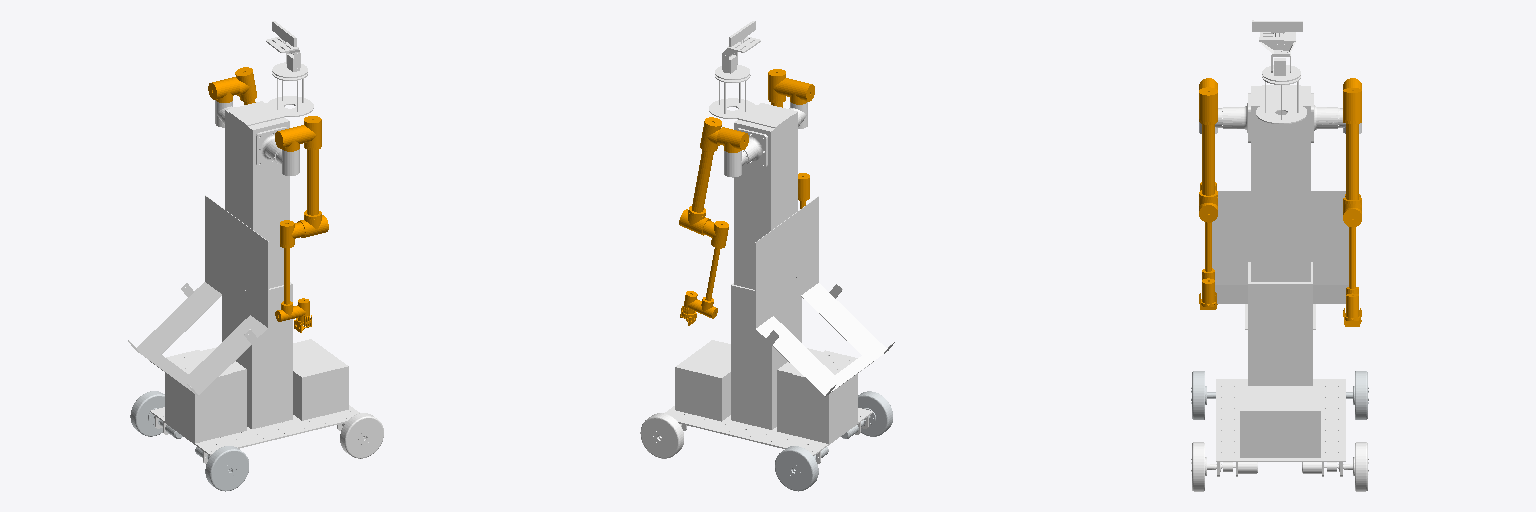
--- Render facts (derived) ---
The picture shows the robot from 3 angles, left to right: view 1: azimuth 30°, elevation 25°; view 2: azimuth 150°, elevation 25°; view 3: azimuth 270°, elevation 25°; orthographic projection.
Robot: hustac_pg_v2 — 27 links, 26 joints (16 revolute, 8 continuous, 1 prismatic, 1 fixed); root link base_footprint; default pose: all joints at 0.
Visible links, largest first — view 1: base_link, torso_link, rb_wheel, rf_wheel, right_link3, lb_wheel, gaze_link2, right_link5, right_link1, left_link1; view 2: base_link, torso_link, lb_wheel, lf_wheel, left_link3, rb_wheel, gaze_link2, left_link5, right_link1, left_link1; view 3: base_link, torso_link, left_link3, right_link3, gaze_link2, lf_wheel, rf_wheel, rb_wheel, lb_wheel, right_link2, left_link2, gaze_link1.
Boxes of the visible links, bbox=[...] form: base_link: bbox=[128, 195, 359, 463]; torso_link: bbox=[215, 72, 313, 288]; rb_wheel: bbox=[195, 446, 248, 491]; rf_wheel: bbox=[340, 413, 383, 458]; right_link3: bbox=[297, 145, 328, 237]; lb_wheel: bbox=[130, 391, 182, 438]; gaze_link2: bbox=[266, 21, 300, 70]; right_link5: bbox=[275, 243, 298, 321]; right_link1: bbox=[275, 126, 306, 151]; left_link1: bbox=[208, 77, 239, 102]; base_link: bbox=[664, 196, 894, 463]; torso_link: bbox=[709, 75, 807, 289]; lb_wheel: bbox=[775, 446, 828, 491]; lf_wheel: bbox=[640, 413, 683, 458]; left_link3: bbox=[679, 144, 717, 235]; rb_wheel: bbox=[841, 391, 892, 438]; gaze_link2: bbox=[722, 21, 760, 72]; left_link5: bbox=[695, 242, 725, 318]; right_link1: bbox=[783, 79, 814, 104]; left_link1: bbox=[717, 127, 748, 152]; base_link: bbox=[1212, 191, 1348, 476]; torso_link: bbox=[1199, 75, 1361, 281]; left_link3: bbox=[1343, 119, 1361, 227]; right_link3: bbox=[1199, 119, 1217, 222]; gaze_link2: bbox=[1252, 20, 1302, 72]; lf_wheel: bbox=[1302, 442, 1368, 491]; rf_wheel: bbox=[1191, 442, 1257, 491]; rb_wheel: bbox=[1191, 371, 1215, 419]; lb_wheel: bbox=[1346, 371, 1368, 419]; right_link2: bbox=[1199, 87, 1217, 121]; left_link2: bbox=[1343, 88, 1361, 120]; gaze_link1: bbox=[1262, 58, 1300, 81].
Bounding box of the posed robot: 0.714 × 0.547 × 1.51 m (x, y, z).
Meshes: 26 distinct files referenced, 26 mesh visuals loaded (26 binary STL).

robot.urdf — hustac_pg_v2:
<robot
  name="hustac_pg_v2">
  <link
    name="base_link">
    <inertial>
      <origin
        xyz="-0.1523 0 0.12489"
        rpy="0 0 0" />
      <mass
        value="89.4624907016849" />
      <inertia
        ixx="1.4339"
        ixy="0.00013298"
        ixz="0.051452"
        iyy="2.6125"
        iyz="0.00047348"
        izz="2.0135" />
    </inertial>
    <visual>
      <origin
        xyz="0 0 0"
        rpy="0 0 0" />
      <geometry>
        <mesh
          filename="package://hustac_pg_v2/meshes/base_link.STL" />
      </geometry>
      <material
        name="">
        <color
          rgba="1 1 1 1" />
      </material>
    </visual>
    <collision>
      <origin
        xyz="0 0 0"
        rpy="0 0 0" />
      <geometry>
        <mesh
          filename="package://hustac_pg_v2/meshes/base_link.STL" />
      </geometry>
    </collision>
  </link>
  <link
    name="torso_link">
    <inertial>
      <origin
        xyz="0.0007982 0 0.31611"
        rpy="0 0 0" />
      <mass
        value="17.045" />
      <inertia
        ixx="0.61932"
        ixy="-4.0034E-05"
        ixz="-0.0043639"
        iyy="0.57083"
        iyz="-0.00015823"
        izz="0.10862" />
    </inertial>
    <visual>
      <origin
        xyz="0 0 0"
        rpy="0 0 0" />
      <geometry>
        <mesh
          filename="package://hustac_pg_v2/meshes/torso_link.STL" />
      </geometry>
      <material
        name="">
        <color
          rgba="1 1 1 1" />
      </material>
    </visual>
    <collision>
      <origin
        xyz="0 0 0"
        rpy="0 0 0" />
      <geometry>
        <mesh
          filename="package://hustac_pg_v2/meshes/torso_link.STL" />
      </geometry>
    </collision>
  </link>
  <joint
    name="torso_joint"
    type="prismatic">
    <origin
      xyz="-1.5832E-05 -1.5832E-05 0.5"
      rpy="-7.8886E-31 -2.4286E-16 -2.6984E-16" />
    <parent
      link="base_link" />
    <child
      link="torso_link" />
    <axis
      xyz="0 0 1" />
    <limit
      lower="-0.43"
      upper="0"
      effort="0"
      velocity="0" />
  </joint>
  <link
    name="left_link1">
    <inertial>
      <origin
        xyz="0 0.0008606 -0.0037962"
        rpy="0 0 0" />
      <mass
        value="0.282400129639665" />
      <inertia
        ixx="0.00025351"
        ixy="-1.0353E-11"
        ixz="4.7094E-12"
        iyy="0.00015523"
        iyz="-9.2262E-07"
        izz="0.00023525" />
    </inertial>
    <visual>
      <origin
        xyz="0 0 0"
        rpy="0 0 0" />
      <geometry>
        <mesh
          filename="package://hustac_pg_v2/meshes/left_link1.STL" />
      </geometry>
      <material
        name="">
        <color
          rgba="1 0.647 0 1" />
      </material>
    </visual>
    <collision>
      <origin
        xyz="0 0 0"
        rpy="0 0 0" />
      <geometry>
        <mesh
          filename="package://hustac_pg_v2/meshes/left_link1.STL" />
      </geometry>
    </collision>
  </link>
  <joint
    name="left_joint1"
    type="revolute">
    <origin
      xyz="0 0.222 0.61"
      rpy="0 0 1.5708" />
    <parent
      link="torso_link" />
    <child
      link="left_link1" />
    <axis
      xyz="0 0 1" />
    <limit effort="300" velocity="1" lower="-6.28" upper="6.28" />
  </joint>
  <link
    name="left_link2">
    <inertial>
      <origin
        xyz="9.45305167476818E-10 0.000860606505898143 -0.00379622536975684"
        rpy="0 0 0" />
      <mass
        value="0.2824001142096" />
      <inertia
        ixx="0.000253509580708817"
        ixy="-1.08641723538627E-11"
        ixz="5.26586097434057E-12"
        iyy="0.000155226373044821"
        iyz="-9.22617058430691E-07"
        izz="0.000235253423304767" />
    </inertial>
    <visual>
      <origin
        xyz="0 0 0"
        rpy="0 0 0" />
      <geometry>
        <mesh
          filename="package://hustac_pg_v2/meshes/left_link2.STL" />
      </geometry>
      <material
        name="">
        <color
          rgba="1 0.647 0 1" />
      </material>
    </visual>
    <collision>
      <origin
        xyz="0 0 0"
        rpy="0 0 0" />
      <geometry>
        <mesh
          filename="package://hustac_pg_v2/meshes/left_link2.STL" />
      </geometry>
    </collision>
  </link>
  <joint
    name="left_joint2"
    type="revolute">
    <origin
      xyz="0 -0.08401108 0"
      rpy="1.3911 0 0" />
    <parent
      link="left_link1" />
    <child
      link="left_link2" />
    <axis
      xyz="0 0 1" />
    <limit effort="300" velocity="1" lower="-6.28" upper="6.28" />
  </joint>
  <link
    name="left_link3">
    <inertial>
      <origin
        xyz="2.09170325504715E-09 0.00037942163947207 -0.0993975720132856"
        rpy="0 0 0" />
      <mass
        value="0.640541692148901" />
      <inertia
        ixx="0.00726441985226313"
        ixy="-1.16273689456554E-11"
        ixz="-1.0956096526367E-10"
        iyy="0.00716601967778952"
        iyz="-2.41571265900033E-05"
        izz="0.000321135841128423" />
    </inertial>
    <visual>
      <origin
        xyz="0 0 0"
        rpy="0 0 0" />
      <geometry>
        <mesh
          filename="package://hustac_pg_v2/meshes/left_link3.STL" />
      </geometry>
      <material
        name="">
        <color
          rgba="1 0.647 0 1" />
      </material>
    </visual>
    <collision>
      <origin
        xyz="0 0 0"
        rpy="0 0 0" />
      <geometry>
        <mesh
          filename="package://hustac_pg_v2/meshes/left_link3.STL" />
      </geometry>
    </collision>
  </link>
  <joint
    name="left_joint3"
    type="revolute">
    <origin
      xyz="0 -0.35 0"
      rpy="1.5707963267949 0 0" />
    <parent
      link="left_link2" />
    <child
      link="left_link3" />
    <axis
      xyz="0 0 1" />
    <limit effort="300" velocity="1" lower="-6.28" upper="6.28" />
  </joint>
  <link
    name="left_link4">
    <inertial>
      <origin
        xyz="5.23182497325081E-10 0.000987080498156996 -0.0110209547990487"
        rpy="0 0 0" />
      <mass
        value="0.188640665914286" />
      <inertia
        ixx="0.000135106424724665"
        ixy="-1.24512886603136E-11"
        ixz="4.47078440440258E-12"
        iyy="0.000108943726861082"
        iyz="-2.05214060471245E-06"
        izz="8.93151006462272E-05" />
    </inertial>
    <visual>
      <origin
        xyz="0 0 0"
        rpy="0 0 0" />
      <geometry>
        <mesh
          filename="package://hustac_pg_v2/meshes/left_link4.STL" />
      </geometry>
      <material
        name="">
        <color
          rgba="1 0.647 0 1" />
      </material>
    </visual>
    <collision>
      <origin
        xyz="0 0 0"
        rpy="0 0 0" />
      <geometry>
        <mesh
          filename="package://hustac_pg_v2/meshes/left_link4.STL" />
      </geometry>
    </collision>
  </link>
  <joint
    name="left_joint4"
    type="revolute">
    <origin
      xyz="0 -0.0990000000000001 0"
      rpy="-1.5707963267949 -1.11022302462516E-16 3.14159265358979" />
    <parent
      link="left_link3" />
    <child
      link="left_link4" />
    <axis
      xyz="0 0 1" />
    <limit effort="300" velocity="1" lower="-6.28" upper="6.28" />
  </joint>
  <link
    name="left_link5">
    <inertial>
      <origin
        xyz="1.36848732346095E-09 0.000497540428185728 -0.078440352473969"
        rpy="0 0 0" />
      <mass
        value="0.188789060770594" />
      <inertia
        ixx="0.00171650030081302"
        ixy="-1.81891555999539E-12"
        ixz="-1.69828496417892E-11"
        iyy="0.00169655727215824"
        iyz="-7.36791722311758E-06"
        izz="5.19114920499587E-05" />
    </inertial>
    <visual>
      <origin
        xyz="0 0 0"
        rpy="0 0 0" />
      <geometry>
        <mesh
          filename="package://hustac_pg_v2/meshes/left_link5.STL" />
      </geometry>
      <material
        name="">
        <color
          rgba="1 0.647 0 1" />
      </material>
    </visual>
    <collision>
      <origin
        xyz="0 0 0"
        rpy="0 0 0" />
      <geometry>
        <mesh
          filename="package://hustac_pg_v2/meshes/left_link5.STL" />
      </geometry>
    </collision>
  </link>
  <joint
    name="left_joint5"
    type="revolute">
    <origin
      xyz="0 -0.3 0"
      rpy="1.5707963267949 -1.60902701370267E-16 0" />
    <parent
      link="left_link4" />
    <child
      link="left_link5" />
    <axis
      xyz="0 0 1" />
    <limit effort="300" velocity="1" lower="-6.28" upper="6.28" />
  </joint>
  <link
    name="left_link6">
    <inertial>
      <origin
        xyz="6.11908523850957E-10 0.000997680391540134 -0.00297185603629835"
        rpy="0 0 0" />
      <mass
        value="0.0941485774984353" />
      <inertia
        ixx="4.39688594097792E-05"
        ixy="-1.75091815300525E-12"
        ixz="1.02575145125081E-12"
        iyy="2.40728118714626E-05"
        iyz="-2.79147001136473E-07"
        izz="4.03142529145276E-05" />
    </inertial>
    <visual>
      <origin
        xyz="0 0 0"
        rpy="0 0 0" />
      <geometry>
        <mesh
          filename="package://hustac_pg_v2/meshes/left_link6.STL" />
      </geometry>
      <material
        name="">
        <color
          rgba="1 0.647 0 1" />
      </material>
    </visual>
    <collision>
      <origin
        xyz="0 0 0"
        rpy="0 0 0" />
      <geometry>
        <mesh
          filename="package://hustac_pg_v2/meshes/left_link6.STL" />
      </geometry>
    </collision>
  </link>
  <joint
    name="left_joint6"
    type="revolute">
    <origin
      xyz="0 -0.0640000000000001 0"
      rpy="-1.5707963267949 6.93889390390723E-18 -3.14159265358979" />
    <parent
      link="left_link5" />
    <child
      link="left_link6" />
    <axis
      xyz="0 0 1" />
    <limit effort="300" velocity="1" lower="-6.28" upper="6.28" />
  </joint>
  <link
    name="left_link7">
    <inertial>
      <origin
        xyz="3.10255765523237E-10 0.00488175590325657 0.0094593306659026"
        rpy="0 0 0" />
      <mass
        value="0.0238610409992475" />
      <inertia
        ixx="6.6214330650804E-06"
        ixy="3.51067575764802E-14"
        ixz="1.5049175610862E-14"
        iyy="5.93593202992512E-06"
        iyz="-1.62955877142949E-06"
        izz="8.29159974096986E-06" />
    </inertial>
    <visual>
      <origin
        xyz="0 0 0"
        rpy="0 0 0" />
      <geometry>
        <mesh
          filename="package://hustac_pg_v2/meshes/left_link7.STL" />
      </geometry>
      <material
        name="">
        <color
          rgba="1 0.647 0 1" />
      </material>
    </visual>
    <collision>
      <origin
        xyz="0 0 0"
        rpy="0 0 0" />
      <geometry>
        <mesh
          filename="package://hustac_pg_v2/meshes/left_link7.STL" />
      </geometry>
    </collision>
  </link>
  <joint
    name="left_joint7"
    type="revolute">
    <origin
      xyz="0 -0.034 0"
      rpy="-1.5707963267949 3.43339858673896E-17 3.14159265358979" />
    <parent
      link="left_link6" />
    <child
      link="left_link7" />
    <axis
      xyz="0 0 1" />
    <limit effort="300" velocity="1" lower="-6.28" upper="6.28" />
  </joint>
  <link
    name="left_ee_link">
    <inertial>
      <origin
        xyz="-0.0104511249147865 0.0200422330307001 0.00473202669947459"
        rpy="0 0 0" />
      <mass
        value="0.00506893153791106" />
      <inertia
        ixx="2.42978795459253E-06"
        ixy="3.6419508303903E-07"
        ixz="2.13478750983576E-07"
        iyy="1.02186457282365E-06"
        iyz="-6.73507198403219E-07"
        izz="2.46533886484517E-06" />
    </inertial>
    <visual>
      <origin
        xyz="0 0 0"
        rpy="0 0 0" />
      <geometry>
        <mesh
          filename="package://hustac_pg_v2/meshes/left_ee_link.STL" />
      </geometry>
      <material
        name="">
        <color
          rgba="1 0.647 0 1" />
      </material>
    </visual>
    <collision>
      <origin
        xyz="0 0 0"
        rpy="0 0 0" />
      <geometry>
        <mesh
          filename="package://hustac_pg_v2/meshes/left_ee_link.STL" />
      </geometry>
    </collision>
  </link>
  <joint
    name="left_ee_joint"
    type="continuous">
    <origin
      xyz="-0.0110000000000008 0.0105000000000003 0.0221811953944651"
      rpy="1.570796327 2.35619449 0" />
    <parent
      link="left_link7" />
    <child
      link="left_ee_link" />
    <axis
      xyz="0 0 -1" />
  </joint>
  <link
    name="left_ee_link2">
    <inertial>
      <origin
        xyz="0.0098988779365487 0.020320662696838 0.0047320266994747"
        rpy="0 0 0" />
      <mass
        value="0.005068931537911" />
      <inertia
        ixx="2.44865465013533E-06"
        ixy="-3.25144959237628E-07"
        ixz="-1.94972377252117E-07"
        iyy="1.00299787728082E-06"
        iyz="-6.79095645348363E-07"
        izz="2.46533886484514E-06" />
    </inertial>
    <visual>
      <origin
        xyz="0 0 0"
        rpy="0 0 0" />
      <geometry>
        <mesh
          filename="package://hustac_pg_v2/meshes/left_ee_link2.STL" />
      </geometry>
      <material
        name="">
        <color
          rgba="1 0.647 0 1" />
      </material>
    </visual>
    <collision>
      <origin
        xyz="0 0 0"
        rpy="0 0 0" />
      <geometry>
        <mesh
          filename="package://hustac_pg_v2/meshes/left_ee_link2.STL" />
      </geometry>
    </collision>
  </link>
  <joint
    name="left_ee_joint2"
    type="continuous">
    <origin
      xyz="0.0110000000000001 0.0105000000000002 0.0221811953944651"
      rpy="1.570796327 -2.35619449 0" />
    <parent
      link="left_link7" />
    <child
      link="left_ee_link2" />
    <axis
      xyz="0 0 -1" />
    <mimic joint="left_ee_joint" multiplier="-1.0"/>
  </joint>
  <link
    name="right_link1">
    <inertial>
      <origin
        xyz="-2.87357232453545E-09 0.000860606448409518 -0.00379622823748849"
        rpy="0 0 0" />
      <mass
        value="0.282400129088101" />
      <inertia
        ixx="0.000253509602809457"
        ixy="-1.28341065106255E-11"
        ixz="-6.97934423758907E-12"
        iyy="0.000155226372481429"
        iyz="-9.22617736839297E-07"
        izz="0.000235253415531243" />
    </inertial>
    <visual>
      <origin
        xyz="0 0 0"
        rpy="0 0 0" />
      <geometry>
        <mesh
          filename="package://hustac_pg_v2/meshes/right_link1.STL" />
      </geometry>
      <material
        name="">
        <color
          rgba="1 0.647 0 1" />
      </material>
    </visual>
    <collision>
      <origin
        xyz="0 0 0"
        rpy="0 0 0" />
      <geometry>
        <mesh
          filename="package://hustac_pg_v2/meshes/right_link1.STL" />
      </geometry>
    </collision>
  </link>
  <joint
    name="right_joint1"
    type="revolute">
    <origin
      xyz="0 -0.222 0.61"
      rpy="-1.44900829258215E-16 -7.14706072102445E-16 1.5707963267949" />
    <parent
      link="torso_link" />
    <child
      link="right_link1" />
    <axis
      xyz="0 0 1" />
    <limit effort="300" velocity="1" lower="-6.28" upper="6.28" />
  </joint>
  <link
    name="right_link2">
    <inertial>
      <origin
        xyz="9.45305167476818E-10 0.000860606505897976 -0.00379622536975677"
        rpy="0 0 0" />
      <mass
        value="0.2824001142096" />
      <inertia
        ixx="0.000253509580708817"
        ixy="-1.08641723936732E-11"
        ixz="5.26586103021678E-12"
        iyy="0.000155226373044821"
        iyz="-9.22617058430763E-07"
        izz="0.000235253423304767" />
    </inertial>
    <visual>
      <origin
        xyz="0 0 0"
        rpy="0 0 0" />
      <geometry>
        <mesh
          filename="package://hustac_pg_v2/meshes/right_link2.STL" />
      </geometry>
      <material
        name="">
        <color
          rgba="1 0.647 0 1" />
      </material>
    </visual>
    <collision>
      <origin
        xyz="0 0 0"
        rpy="0 0 0" />
      <geometry>
        <mesh
          filename="package://hustac_pg_v2/meshes/right_link2.STL" />
      </geometry>
    </collision>
  </link>
  <joint
    name="right_joint2"
    type="revolute">
    <origin
      xyz="0 -0.085 0"
      rpy="1.5707963267949 0 0" />
    <parent
      link="right_link1" />
    <child
      link="right_link2" />
    <axis
      xyz="0 0 1" />
    <limit effort="300" velocity="1" lower="-6.28" upper="6.28" />
  </joint>
  <link
    name="right_link3">
    <inertial>
      <origin
        xyz="-1.26689192470053E-09 0.000379421629088439 -0.0993975720898352"
        rpy="0 0 0" />
      <mass
        value="0.640541691597337" />
      <inertia
        ixx="0.00726441984857735"
        ixy="-1.24436265420934E-11"
        ixz="7.06008805139157E-11"
        iyy="0.00716601967331769"
        iyz="-2.4157125915642E-05"
        izz="0.00032113583990587" />
    </inertial>
    <visual>
      <origin
        xyz="0 0 0"
        rpy="0 0 0" />
      <geometry>
        <mesh
          filename="package://hustac_pg_v2/meshes/right_link3.STL" />
      </geometry>
      <material
        name="">
        <color
          rgba="1 0.647 0 1" />
      </material>
    </visual>
    <collision>
      <origin
        xyz="0 0 0"
        rpy="0 0 0" />
      <geometry>
        <mesh
          filename="package://hustac_pg_v2/meshes/right_link3.STL" />
      </geometry>
    </collision>
  </link>
  <joint
    name="right_joint3"
    type="revolute">
    <origin
      xyz="0 -0.35 0"
      rpy="1.5707963267949 4.69556343789277E-17 0" />
    <parent
      link="right_link2" />
    <child
      link="right_link3" />
    <axis
      xyz="0 0 1" />
    <limit effort="300" velocity="1" lower="-6.28" upper="6.28" />
  </joint>
  <link
    name="right_link4">
    <inertial>
      <origin
        xyz="5.23182608347383E-10 0.000987080498156993 -0.0110209547990489"
        rpy="0 0 0" />
      <mass
        value="0.188640665914286" />
      <inertia
        ixx="0.000135106424724665"
        ixy="-1.24512886755602E-11"
        ixz="4.47078447625519E-12"
        iyy="0.000108943726861082"
        iyz="-2.0521406047124E-06"
        izz="8.93151006462272E-05" />
    </inertial>
    <visual>
      <origin
        xyz="0 0 0"
        rpy="0 0 0" />
      <geometry>
        <mesh
          filename="package://hustac_pg_v2/meshes/right_link4.STL" />
      </geometry>
      <material
        name="">
        <color
          rgba="1 0.647 0 1" />
      </material>
    </visual>
    <collision>
      <origin
        xyz="0 0 0"
        rpy="0 0 0" />
      <geometry>
        <mesh
          filename="package://hustac_pg_v2/meshes/right_link4.STL" />
      </geometry>
    </collision>
  </link>
  <joint
    name="right_joint4"
    type="revolute">
    <origin
      xyz="0 -0.0990000000000004 0"
      rpy="-1.5707963267949 -6.93889390390723E-18 3.14159265358979" />
    <parent
      link="right_link3" />
    <child
      link="right_link4" />
    <axis
      xyz="0 0 1" />
    <limit effort="300" velocity="1" lower="-6.28" upper="6.28" />
  </joint>
  <link
    name="right_link5">
    <inertial>
      <origin
        xyz="-7.64793006702291E-10 0.000497540423684217 -0.0784403525436494"
        rpy="0 0 0" />
      <mass
        value="0.188789060585377" />
      <inertia
        ixx="0.0017165002999699"
        ixy="-2.01929499692028E-12"
        ixz="1.0584619295499E-11"
        iyy="0.00169655727120642"
        iyz="-7.36791715343006E-06"
        izz="5.19114918573948E-05" />
    </inertial>
    <visual>
      <origin
        xyz="0 0 0"
        rpy="0 0 0" />
      <geometry>
        <mesh
          filename="package://hustac_pg_v2/meshes/right_link5.STL" />
      </geometry>
      <material
        name="">
        <color
          rgba="1 0.647 0 1" />
      </material>
    </visual>
    <collision>
      <origin
        xyz="0 0 0"
        rpy="0 0 0" />
      <geometry>
        <mesh
          filename="package://hustac_pg_v2/meshes/right_link5.STL" />
      </geometry>
    </collision>
  </link>
  <joint
    name="right_joint5"
    type="revolute">
    <origin
      xyz="0 -0.3 0"
      rpy="1.5707963267949 1.38489731979257E-16 0" />
    <parent
      link="right_link4" />
    <child
      link="right_link5" />
    <axis
      xyz="0 0 1" />
    <limit effort="300" velocity="1" lower="-6.28" upper="6.28" />
  </joint>
  <link
    name="right_link6">
    <inertial>
      <origin
        xyz="6.11908412828654E-10 0.000997680391540245 -0.00297185603629846"
        rpy="0 0 0" />
      <mass
        value="0.094148577498435" />
      <inertia
        ixx="4.3968859409779E-05"
        ixy="-1.75091816867536E-12"
        ixz="1.02575140575681E-12"
        iyy="2.40728118714625E-05"
        iyz="-2.79147001136418E-07"
        izz="4.03142529145275E-05" />
    </inertial>
    <visual>
      <origin
        xyz="0 0 0"
        rpy="0 0 0" />
      <geometry>
        <mesh
          filename="package://hustac_pg_v2/meshes/right_link6.STL" />
      </geometry>
      <material
        name="">
        <color
          rgba="1 0.647 0 1" />
      </material>
    </visual>
    <collision>
      <origin
        xyz="0 0 0"
        rpy="0 0 0" />
      <geometry>
        <mesh
          filename="package://hustac_pg_v2/meshes/right_link6.STL" />
      </geometry>
    </collision>
  </link>
  <joint
    name="right_joint6"
    type="revolute">
    <origin
      xyz="0 -0.0639999999999999 0"
      rpy="-1.5707963267949 -1.11022302462516E-16 -3.14159265358979" />
    <parent
      link="right_link5" />
    <child
      link="right_link6" />
    <axis
      xyz="0 0 1" />
    <limit effort="300" velocity="1" lower="-6.28" upper="6.28" />
  </joint>
  <link
    name="right_link7">
    <inertial>
      <origin
        xyz="-3.1025271240992E-10 -0.00488175590325302 0.0094593306659026"
        rpy="0 0 0" />
      <mass
        value="0.0238610409992475" />
      <inertia
        ixx="6.62143306508118E-06"
        ixy="3.51064172185128E-14"
        ixz="-1.50487913469646E-14"
        iyy="5.9359320299251E-06"
        iyz="1.62955877142993E-06"
        izz="8.29159974097066E-06" />
    </inertial>
    <visual>
      <origin
        xyz="0 0 0"
        rpy="0 0 0" />
      <geometry>
        <mesh
          filename="package://hustac_pg_v2/meshes/right_link7.STL" />
      </geometry>
      <material
        name="">
        <color
          rgba="1 0.647 0 1" />
      </material>
    </visual>
    <collision>
      <origin
        xyz="0 0 0"
        rpy="0 0 0" />
      <geometry>
        <mesh
          filename="package://hustac_pg_v2/meshes/right_link7.STL" />
      </geometry>
    </collision>
  </link>
  <joint
    name="right_joint7"
    type="revolute">
    <origin
      xyz="0 -0.034 0"
      rpy="1.5707963267949 0 0" />
    <parent
      link="right_link6" />
    <child
      link="right_link7" />
    <axis
      xyz="0 0 1" />
    <limit effort="300" velocity="1" lower="-6.28" upper="6.28" />
  </joint>
  <link
    name="right_ee_link">
    <inertial>
      <origin
        xyz="-0.00786989624640644 0.0211891917028314 0.00473202694465302"
        rpy="0 0 0" />
      <mass
        value="0.00506893153791106" />
      <inertia
        ixx="2.49802240360424E-06"
        ixy="1.78642778393487E-07"
        ixz="1.27813439260075E-07"
        iyy="9.53630123811921E-07"
        iyz="-6.94873260506518E-07"
        izz="2.46533886484516E-06" />
    </inertial>
    <visual>
      <origin
        xyz="0 0 0"
        rpy="0 0 0" />
      <geometry>
        <mesh
          filename="package://hustac_pg_v2/meshes/right_ee_link.STL" />
      </geometry>
      <material
        name="">
        <color
          rgba="1 0.647 0 1" />
      </material>
    </visual>
    <collision>
      <origin
        xyz="0 0 0"
        rpy="0 0 0" />
      <geometry>
        <mesh
          filename="package://hustac_pg_v2/meshes/right_ee_link.STL" />
      </geometry>
    </collision>
  </link>
  <joint
    name="right_ee_joint"
    type="continuous">
    <origin
      xyz="0.0110000000000067 -0.0104999999999925 0.0221811953944649"
      rpy="1.5707963267949 2.35619449 -3.14159265358979" />
    <parent
      link="right_link7" />
    <child
      link="right_ee_link" />
    <axis
      xyz="0 0 -1" />
  </joint>
  <link
    name="right_ee_link2">
    <inertial>
      <origin
        xyz="0.00659519493320093 0.0216199102827142 0.00473202669948436"
        rpy="0 0 0" />
      <mass
        value="0.00506893153791103" />
      <inertia
        ixx="2.51377570664327E-06"
        ixy="-8.56492622315812E-08"
        ixz="-8.62419899790844E-08"
        iyy="9.3787682077291E-07"
        iyz="-7.01247062444405E-07"
        izz="2.46533886484516E-06" />
    </inertial>
    <visual>
      <origin
        xyz="0 0 0"
        rpy="0 0 0" />
      <geometry>
        <mesh
          filename="package://hustac_pg_v2/meshes/right_ee_link2.STL" />
      </geometry>
      <material
        name="">
        <color
          rgba="1 0.647 0 1" />
      </material>
    </visual>
    <collision>
      <origin
        xyz="0 0 0"
        rpy="0 0 0" />
      <geometry>
        <mesh
          filename="package://hustac_pg_v2/meshes/right_ee_link2.STL" />
      </geometry>
    </collision>
  </link>
  <joint
    name="right_ee_joint2"
    type="continuous">
    <origin
      xyz="-0.0110000000000009 -0.0104999999999998 0.0221811953944632"
      rpy="1.5707963267949 -2.35619449 -3.14159265358979" />
    <parent
      link="right_link7" />
    <child
      link="right_ee_link2" />
    <axis
      xyz="0 0 -1" />
    <mimic joint="right_ee_joint" multiplier="-1.0"/>
  </joint>
  <link
    name="gaze_link1">
    <inertial>
      <origin
        xyz="0.00332314338033088 -0.00166685318807747 0.0152159364388744"
        rpy="0 0 0" />
      <mass
        value="0.150566307832226" />
      <inertia
        ixx="0.000115144351223355"
        ixy="1.67570359368863E-06"
        ixz="-1.03958431832344E-05"
        iyy="0.000113564190859189"
        iyz="5.20649724762848E-06"
        izz="0.000139133815813377" />
    </inertial>
    <visual>
      <origin
        xyz="0 0 0"
        rpy="0 0 0" />
      <geometry>
        <mesh
          filename="package://hustac_pg_v2/meshes/gaze_link1.STL" />
      </geometry>
      <material
        name="">
        <color
          rgba="1 1 1 1" />
      </material>
    </visual>
    <collision>
      <origin
        xyz="0 0 0"
        rpy="0 0 0" />
      <geometry>
        <mesh
          filename="package://hustac_pg_v2/meshes/gaze_link1.STL" />
      </geometry>
    </collision>
  </link>
  <joint
    name="gaze_joint1"
    type="revolute">
    <origin
      xyz="0.128043357043904 0.00300000000000078 0.728"
      rpy="2.36658271566304E-30 2.4980018054066E-16 2.93111764559954E-15" />
    <parent
      link="torso_link" />
    <child
      link="gaze_link1" />
    <axis
      xyz="0 0 -1" />
    <limit effort="300" velocity="1" lower="-6.28" upper="6.28" />
  </joint>
  <link
    name="gaze_link2">
    <inertial>
      <origin
        xyz="-0.0933002369417908 -0.0315613902482236 -0.0210661375537418"
        rpy="0 0 0" />
      <mass
        value="0.137563261149672" />
      <inertia
        ixx="0.000246822046761975"
        ixy="-6.36584038385022E-05"
        ixz="1.92838091398628E-05"
        iyy="0.000348311526737285"
        iyz="1.12981590257425E-05"
        izz="0.000223382527067793" />
    </inertial>
    <visual>
      <origin
        xyz="0 0 0"
        rpy="0 0 0" />
      <geometry>
        <mesh
          filename="package://hustac_pg_v2/meshes/gaze_link2.STL" />
      </geometry>
      <material
        name="">
        <color
          rgba="1 1 1 1" />
      </material>
    </visual>
    <collision>
      <origin
        xyz="0 0 0"
        rpy="0 0 0" />
      <geometry>
        <mesh
          filename="package://hustac_pg_v2/meshes/gaze_link2.STL" />
      </geometry>
    </collision>
  </link>
  <joint
    name="gaze_joint2"
    type="revolute">
    <origin
      xyz="0.01 -0.031 0.0259999999999996"
      rpy="-1.69414531841237 1.57079631189374 2.99390185732041" />
    <parent
      link="gaze_link1" />
    <child
      link="gaze_link2" />
    <axis
      xyz="0 0 1" />
    <limit effort="300" velocity="1" lower="-6.28" upper="6.28" />
  </joint>
  <link
    name="lf_wheel">
    <inertial>
      <origin
        xyz="1.02755349089684E-05 -6.13129857995887E-09 -0.0238601812392738"
        rpy="0 0 0" />
      <mass
        value="1.21338763949041" />
      <inertia
        ixx="0.00568352810160651"
        ixy="2.98155597433514E-19"
        ixz="5.73484420208184E-07"
        iyy="0.00568357790753054"
        iyz="2.11994461266658E-15"
        izz="0.00215961172887464" />
    </inertial>
    <visual>
      <origin
        xyz="0 0 0"
        rpy="0 0 0" />
      <geometry>
        <mesh
          filename="package://hustac_pg_v2/meshes/lf_wheel.STL" />
      </geometry>
      <material
        name="">
        <color
          rgba="1 1 1 1" />
      </material>
    </visual>
    <collision>
      <origin
        xyz="0 0 0"
        rpy="0 0 0" />
      <geometry>
        <mesh
          filename="package://hustac_pg_v2/meshes/lf_wheel.STL" />
      </geometry>
    </collision>
  </link>
  <joint
    name="lf_wheel_joint"
    type="continuous">
    <origin
      xyz="0.25798 0.22848 -0.04"
      rpy="-1.5708 -1.0408E-16 0" />
    <parent
      link="base_link" />
    <child
      link="lf_wheel" />
    <axis
      xyz="0 0 -1" />
  </joint>
  <link
    name="lb_wheel">
    <inertial>
      <origin
        xyz="-1.02882751050748E-05 -1.43245970640749E-09 -0.0238601748305925"
        rpy="0 0 0" />
      <mass
        value="1.21338763949041" />
      <inertia
        ixx="0.00568352829157572"
        ixy="1.67716589314498E-14"
        ixz="-5.73482492765679E-07"
        iyy="0.00568357809750189"
        iyz="7.42549312152505E-11"
        izz="0.00215961172887679" />
    </inertial>
    <visual>
      <origin
        xyz="0 0 0"
        rpy="0 0 0" />
      <geometry>
        <mesh
          filename="package://hustac_pg_v2/meshes/lb_wheel.STL" />
      </geometry>
      <material
        name="">
        <color
          rgba="0.898039215686275 0.917647058823529 0.929411764705882 1" />
      </material>
    </visual>
    <collision>
      <origin
        xyz="0 0 0"
        rpy="0 0 0" />
      <geometry>
        <mesh
          filename="package://hustac_pg_v2/meshes/lb_wheel.STL" />
      </geometry>
    </collision>
  </link>
  <joint
    name="lb_wheel_joint"
    type="continuous">
    <origin
      xyz="-0.26202 0.22848 -0.04"
      rpy="-1.5708 -1.0408E-16 0" />
    <parent
      link="base_link" />
    <child
      link="lb_wheel" />
    <axis
      xyz="0 0 -1" />
  </joint>
  <link
    name="rb_wheel">
    <inertial>
      <origin
        xyz="1.02879751315843E-05 9.84803349979302E-11 -0.0238601767444937"
        rpy="0 0 0" />
      <mass
        value="1.21338763949041" />
      <inertia
        ixx="0.00568352810631195"
        ixy="1.23170787805216E-15"
        ixz="5.73479156772246E-07"
        iyy="0.0056835779122419"
        iyz="2.20368682510795E-12"
        izz="0.00215961172888057" />
    </inertial>
    <visual>
      <origin
        xyz="0 0 0"
        rpy="0 0 0" />
      <geometry>
        <mesh
          filename="package://hustac_pg_v2/meshes/rb_wheel.STL" />
      </geometry>
      <material
        name="">
        <color
          rgba="0.898039215686275 0.917647058823529 0.929411764705882 1" />
      </material>
    </visual>
    <collision>
      <origin
        xyz="0 0 0"
        rpy="0 0 0" />
      <geometry>
        <mesh
          filename="package://hustac_pg_v2/meshes/rb_wheel.STL" />
      </geometry>
    </collision>
  </link>
  <joint
    name="rb_wheel_joint"
    type="continuous">
    <origin
      xyz="-0.26202 -0.23252 -0.04"
      rpy="-1.5708 1.8735E-16 3.1416" />
    <parent
      link="base_link" />
    <child
      link="rb_wheel" />
    <axis
      xyz="0 0 1" />
  </joint>
  <link
    name="rf_wheel">
    <inertial>
      <origin
        xyz="-1.02971411043012E-05 -3.71761554873729E-09 -0.0238601903655846"
        rpy="0 0 0" />
      <mass
        value="1.21338763949041" />
      <inertia
        ixx="0.00568352810001746"
        ixy="-2.20797772426673E-16"
        ixz="-5.73484283476812E-07"
        iyy="0.0056835779059417"
        iyz="5.21777890584448E-13"
        izz="0.00215961172887485" />
    </inertial>
    <visual>
      <origin
        xyz="0 0 0"
        rpy="0 0 0" />
      <geometry>
        <mesh
          filename="package://hustac_pg_v2/meshes/rf_wheel.STL" />
      </geometry>
      <material
        name="">
        <color
          rgba="1 1 1 1" />
      </material>
    </visual>
    <collision>
      <origin
        xyz="0 0 0"
        rpy="0 0 0" />
      <geometry>
        <mesh
          filename="package://hustac_pg_v2/meshes/rf_wheel.STL" />
      </geometry>
    </collision>
  </link>
  <joint
    name="rf_wheel_joint"
    type="continuous">
    <origin
      xyz="0.25798 -0.23252 -0.04"
      rpy="-1.5708 1.8735E-16 3.1416" />
    <parent
      link="base_link" />
    <child
      link="rf_wheel" />
    <axis
      xyz="0 0 1" />
  </joint>

  
  <link
    name="base_footprint" />
  <joint
    name="base_footprint_joint"
    type="fixed">
    <origin
      xyz="0 0 0.116"
      rpy="0 0 0" />
    <parent
      link="base_footprint" />
    <child
      link="base_link" />
    <axis
      xyz="0 0 0" />
  </joint>
</robot>
